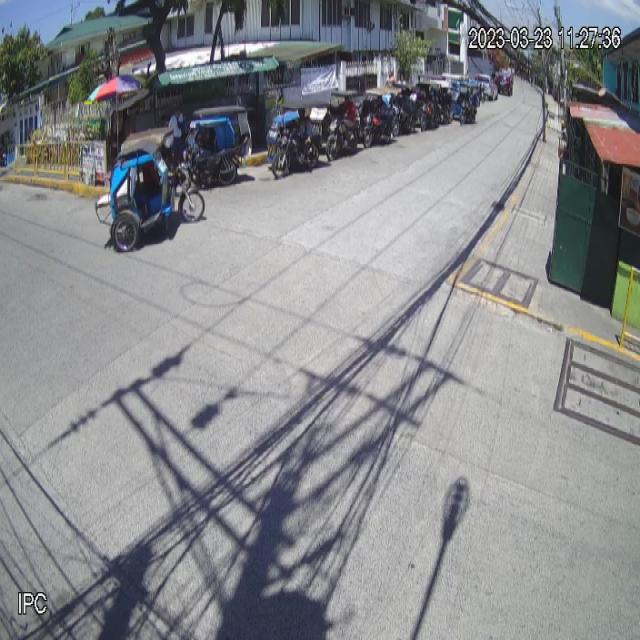Tricycle: (94, 128, 206, 252)
